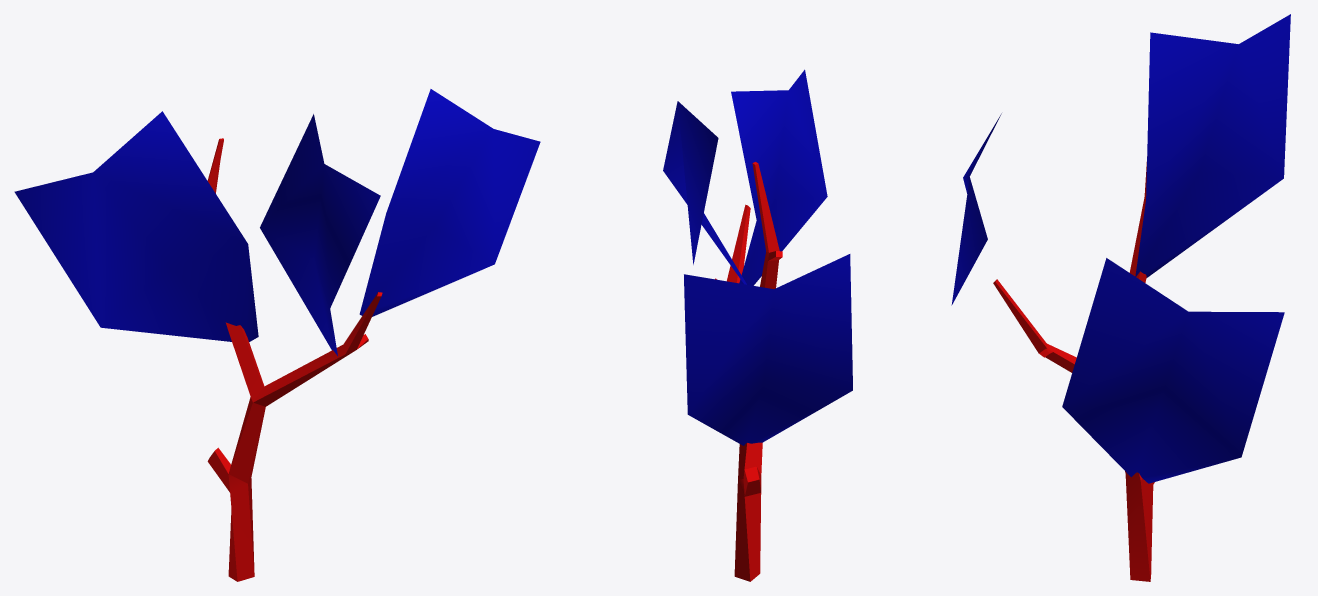
The model's file is SM_Tree_Dead_03.gltf.
3 views of the same model, side by side, from view 1: azimuth 30°, elevation 25°; view 2: azimuth 150°, elevation 25°; view 3: azimuth 270°, elevation 25° (orthographic). The views are drawn at different scales.
Parts seen in each view (by area): view 1: SM_Tree_Dead_03; view 2: SM_Tree_Dead_03; view 3: SM_Tree_Dead_03.
Boxes of the visible parts, x1,y1,x2,y2 form: SM_Tree_Dead_03: (14, 89, 540, 581); SM_Tree_Dead_03: (663, 69, 852, 581); SM_Tree_Dead_03: (951, 14, 1290, 581).
Bounding box in the file's own units: 0.9904 × 1.23 × 0.7231.
